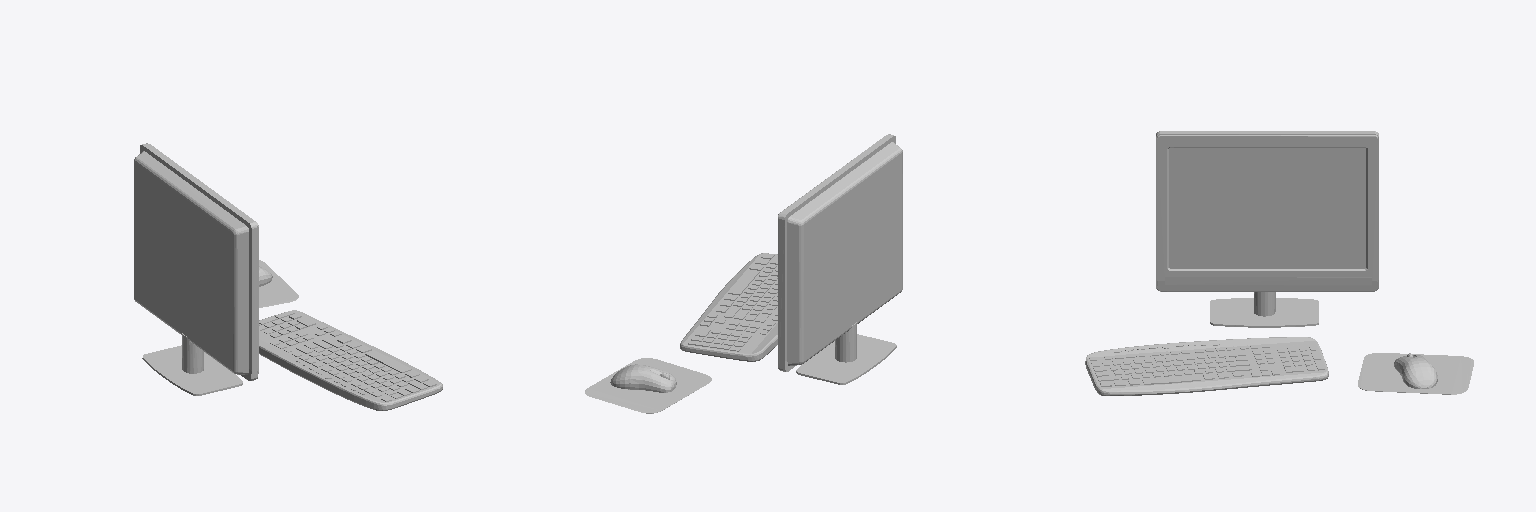
File: monitor2.obj
3 views of the same model, side by side, from view 1: azimuth 30°, elevation 25°; view 2: azimuth 150°, elevation 25°; view 3: azimuth 270°, elevation 25° (orthographic).
Parts seen in each view (by area): view 1: 3d-model.002_3d-model.011; view 2: 3d-model.002_3d-model.011; view 3: 3d-model.002_3d-model.011.
Part boxes in pixels (x1,y1,x2,y2): 3d-model.002_3d-model.011: (134,143,442,410); 3d-model.002_3d-model.011: (585,134,902,413); 3d-model.002_3d-model.011: (1085,131,1473,395).
Bounding box in the file's own units: 3.42 × 3.05 × 5.8.